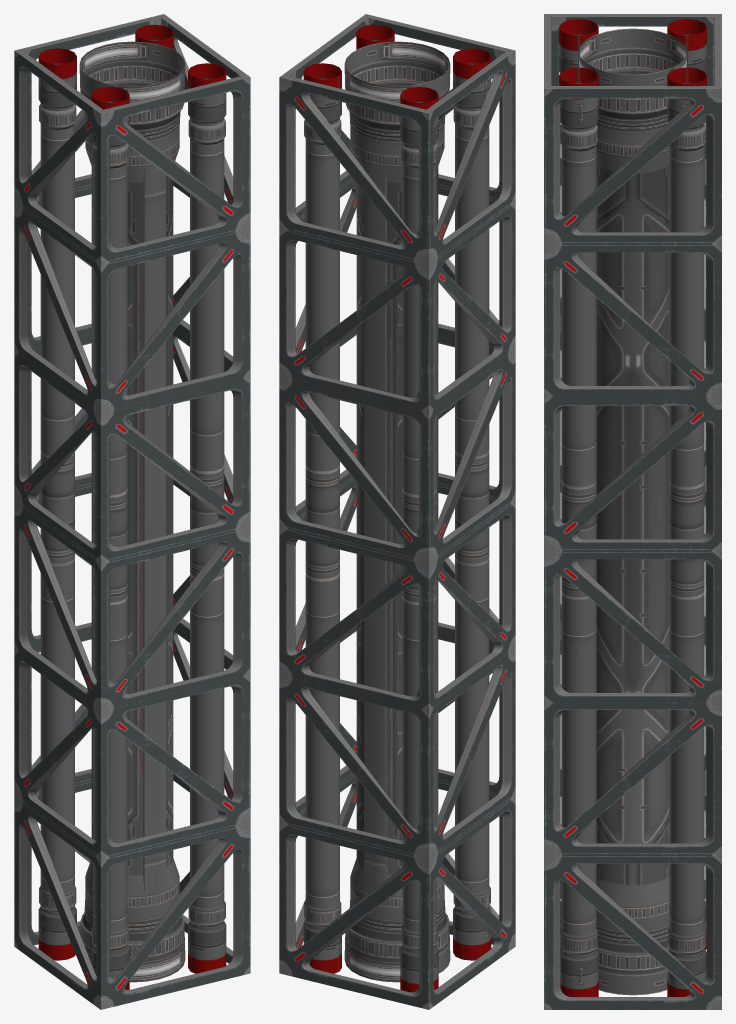
Rendered from quaternius-scifi-column-pipes.glb.
The picture shows the model from 3 angles, left to right: view 1: azimuth 30°, elevation 25°; view 2: azimuth 150°, elevation 25°; view 3: azimuth 270°, elevation 25°; orthographic projection. The views are drawn at different scales.
Visible parts, largest first — view 1: Column_Pipes; view 2: Column_Pipes; view 3: Column_Pipes.
Boxes of the visible parts, x1,y1,x2,y2 form: Column_Pipes: (14,14,250,1009); Column_Pipes: (279,14,515,1009); Column_Pipes: (544,14,721,1009).
Bounding box in the file's own units: 0.8746 × 5 × 0.8746.
3 materials, 3 textured.
